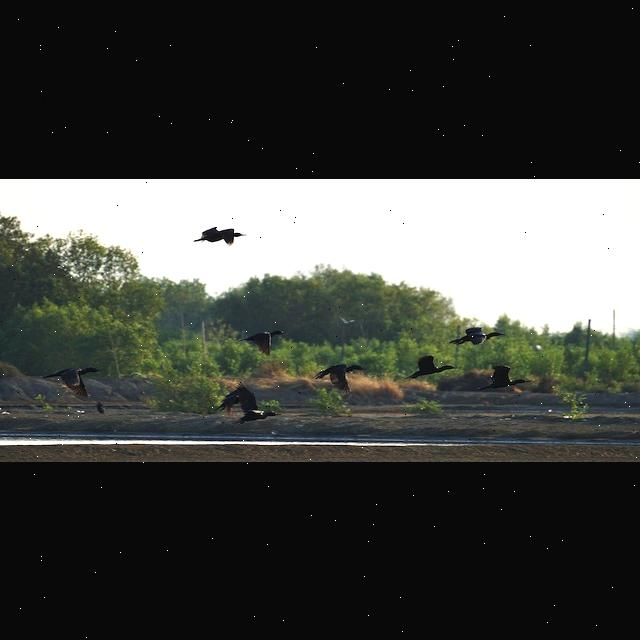cormorant: (42, 366, 104, 398), (314, 359, 366, 393), (478, 362, 530, 392), (406, 354, 459, 381), (238, 326, 284, 356), (448, 324, 504, 348), (192, 224, 248, 246)
